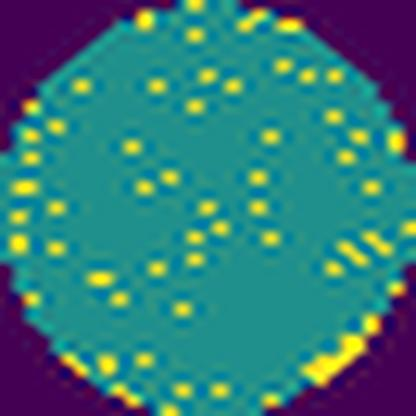Edge-Loc: (300, 331, 369, 393)
